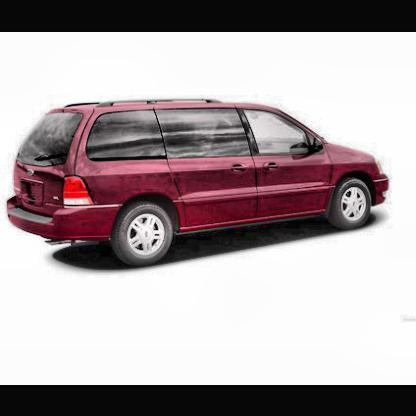Ford Freestar Minivan 2007: (5, 100, 395, 272)
